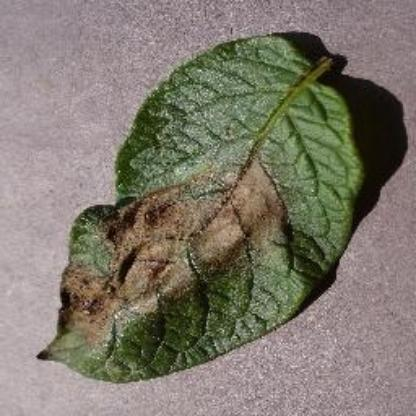Late-Blight: (38, 24, 384, 386)
